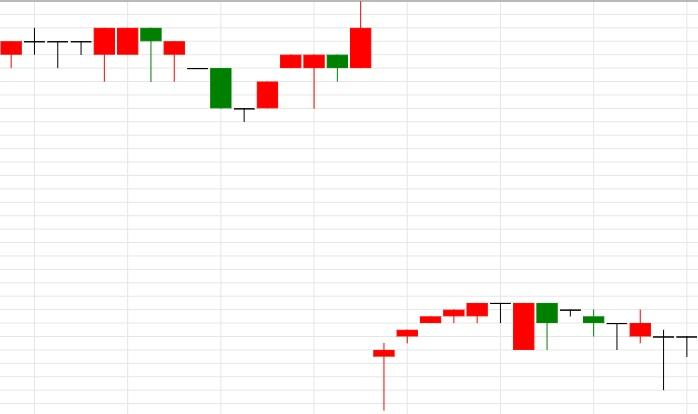morning_star_rise: (140, 26, 279, 122)
